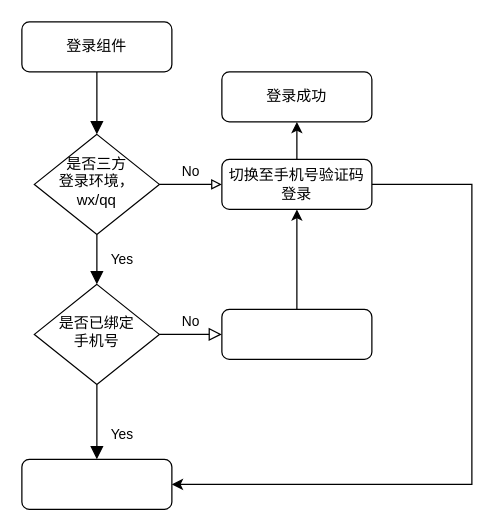
The diagram is 504 pixels wide and 531 high, and some of its shapes have lost their labels. Here are the shapes that lost their labels. From the top down, the centre of each, then its label:
At (296,333): "提示用户需绑定 手机号".
At (96,483): "三方登录成功".
